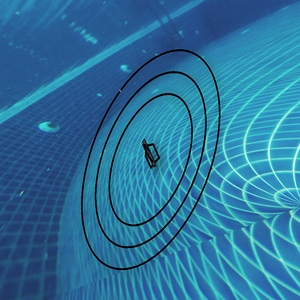submarine: (138, 141, 159, 164)
